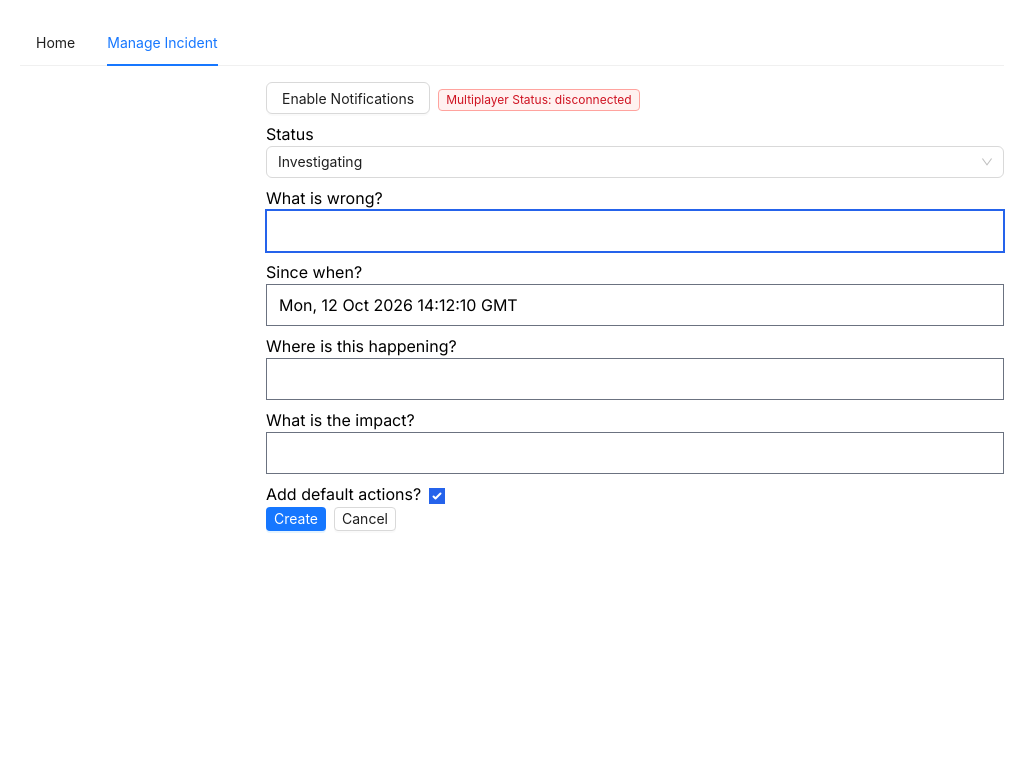
Test: Creating a New Incident › creates a new incident - without default actions
Step 1. Type "This is the what" into the field labelled "What is wrong?" → (635, 231), box [266,210,1004,252]
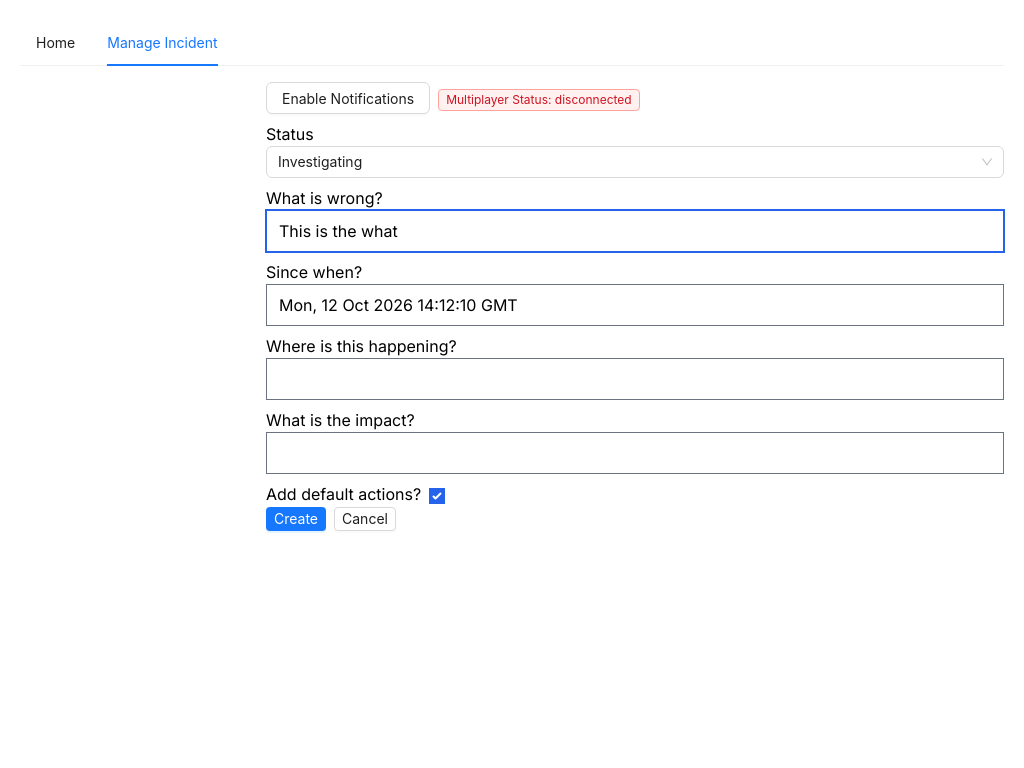
Step 2. Replace the text in the field labelled "Since when?" with "2021-01-02 11:22:00" → (635, 305), box [266,284,1004,326]
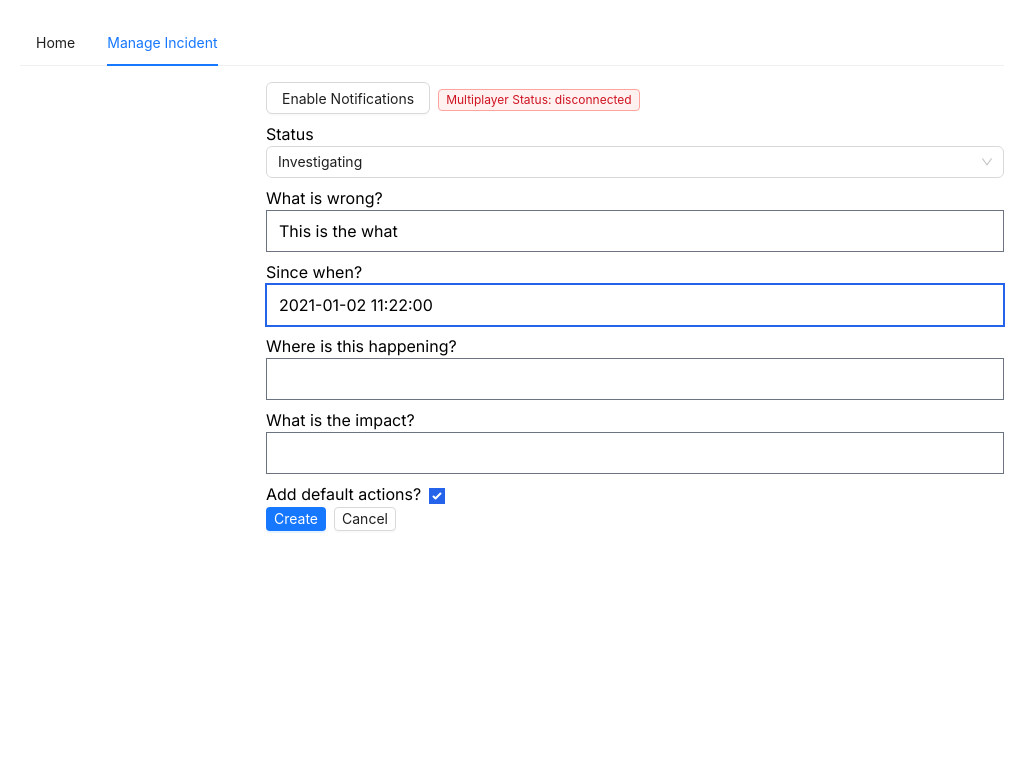
Step 3. Type "This is the where" into the field labelled "Where is this happening?" → (635, 379), box [266,358,1004,400]
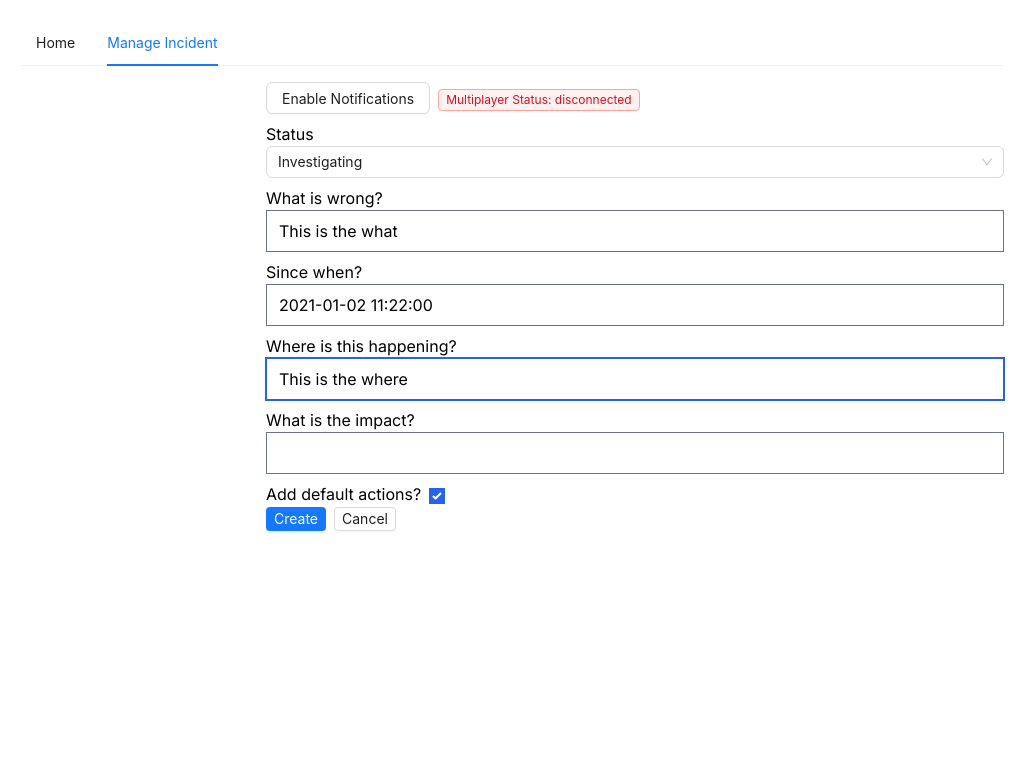
Step 4. Type "This is the impact" into the 4th field → (635, 453), box [266,432,1004,474]
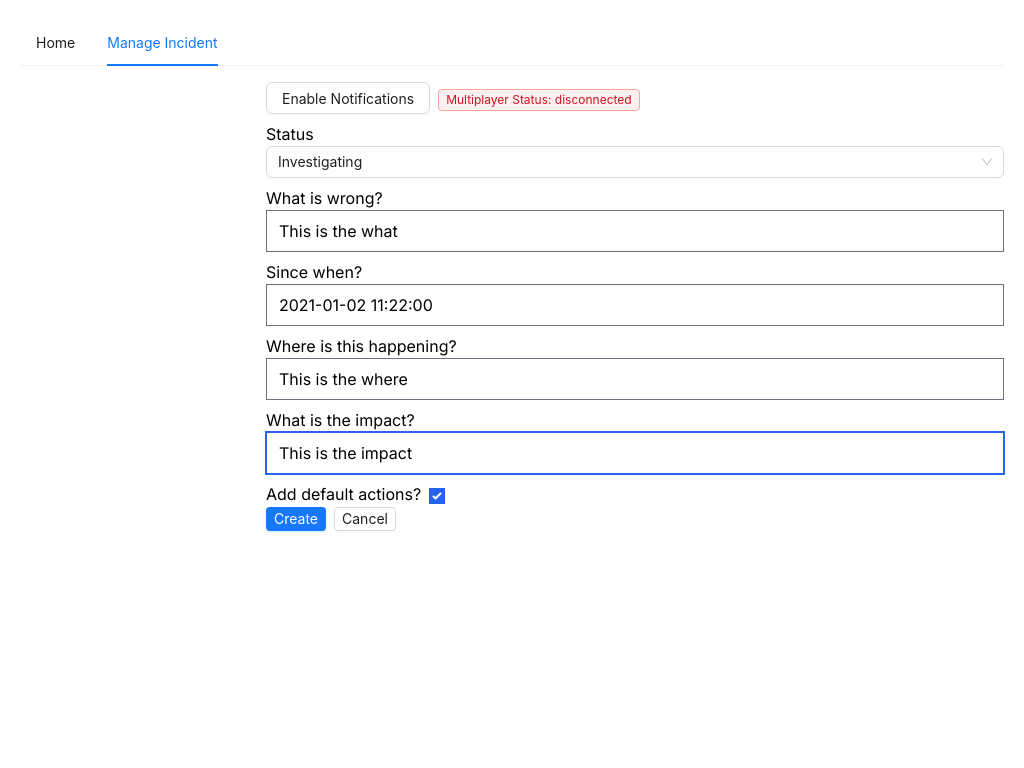
Step 5. Uncheck the checkbox labelled "Add default actions?" → (437, 496), box [429,488,445,504]
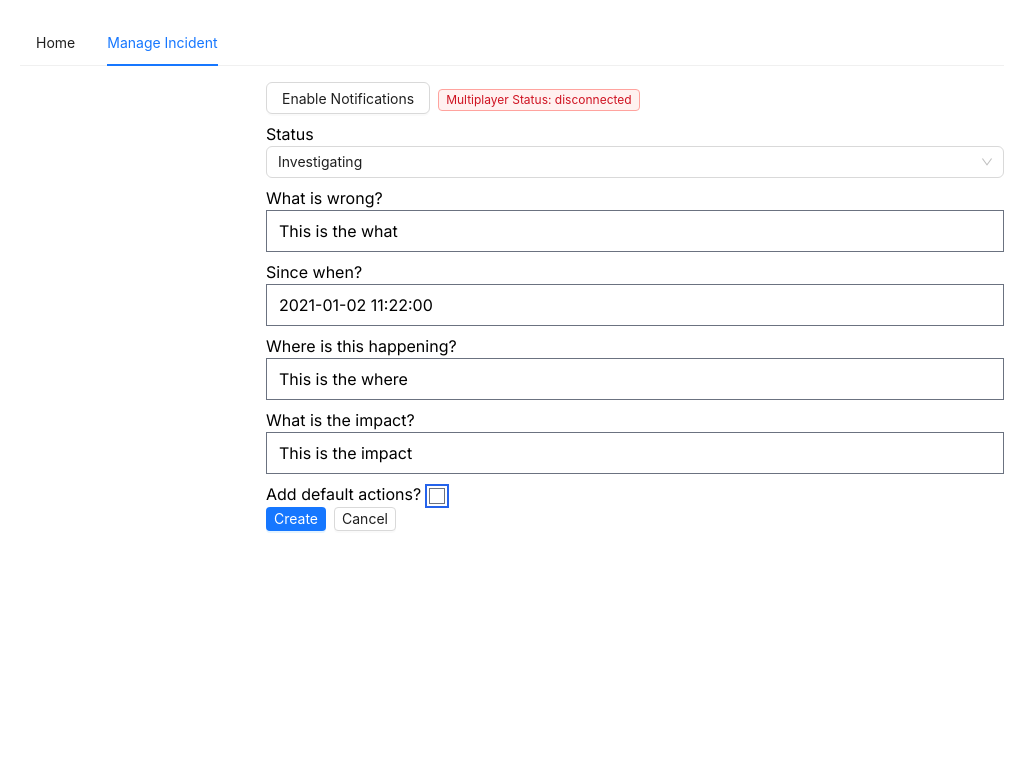
Step 6. Click the button "Create" → click(296, 519), box [266,507,326,531]
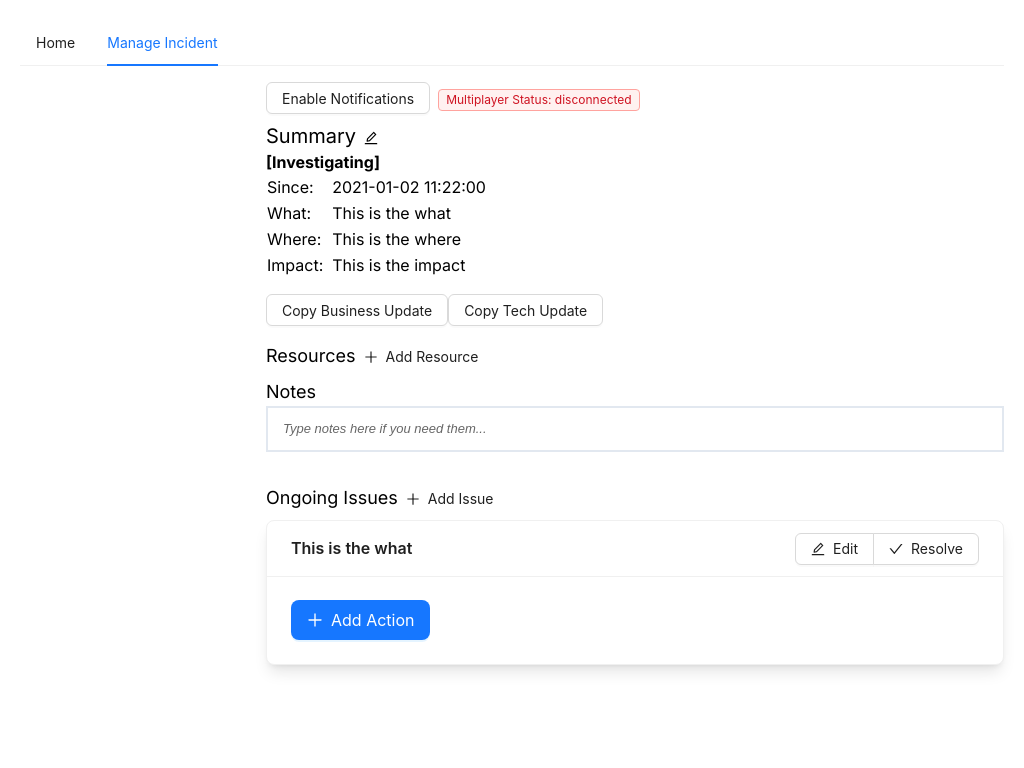
Check: the element that starts with "Investigating" shows "This is the what", box [266,152,486,275]
Check: the element that starts with "Investigating" shows "2021-01-02 11:22:00", box [266,152,486,275]
Check: the element that starts with "Investigating" shows "This is the where", box [266,152,486,275]
